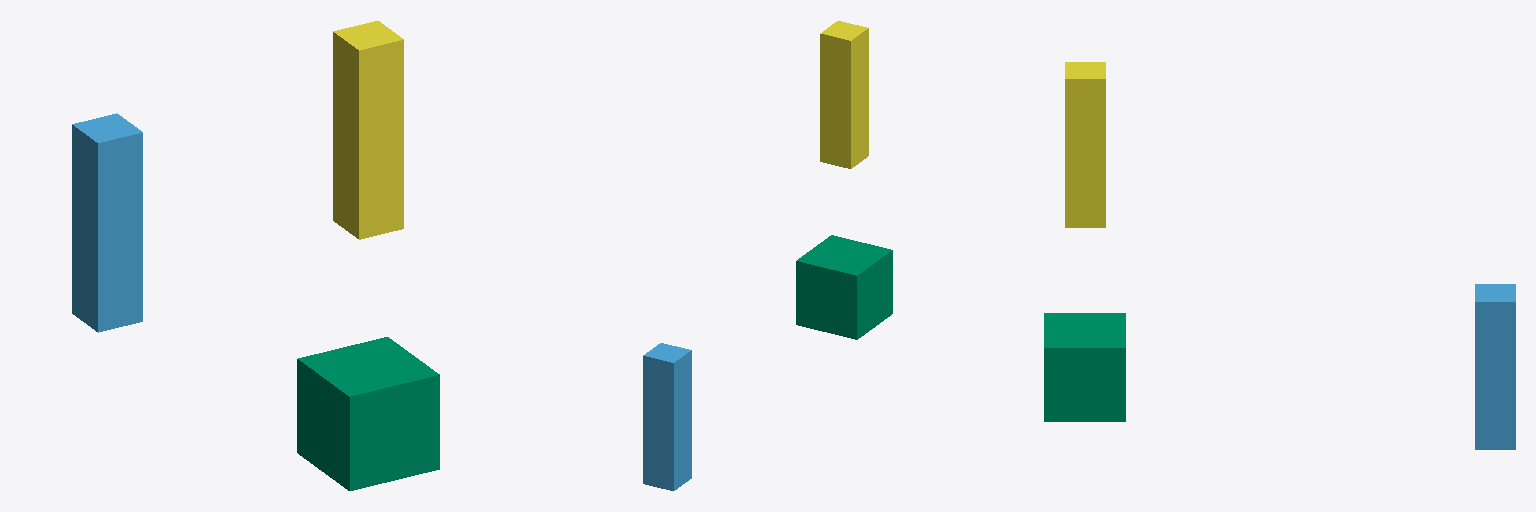
URDF robot description (world_revolute_and_floating):
<?xml version="1.0"?>
<robot name="world_revolute_and_floating">
  <link name="world"/>
  <link name="arm">
    <inertial>
      <mass value="1"/>
      <inertia ixx="0.01" iyy="0.01" izz="0.01" ixy="0" ixz="0" iyz="0"/>
    </inertial>
    <visual>
      <geometry>
        <box size="0.05 0.05 0.2"/>
      </geometry>
    </visual>
  </link>
  <link name="free">
    <inertial>
      <mass value="1"/>
      <inertia ixx="0.01" iyy="0.01" izz="0.01" ixy="0" ixz="0" iyz="0"/>
    </inertial>
    <visual>
      <geometry>
        <box size="0.1 0.1 0.1"/>
      </geometry>
    </visual>
  </link>
  <link name="freechild">
    <inertial>
      <mass value="1"/>
      <inertia ixx="0.01" iyy="0.01" izz="0.01" ixy="0" ixz="0" iyz="0"/>
    </inertial>
    <visual>
      <geometry>
        <box size="0.05 0.05 0.2"/>
      </geometry>
    </visual>
  </link>

  <joint name="arm_joint" type="revolute">
    <origin xyz="0 0.25 0"/>
    <parent link="world"/>
    <child link="arm"/>
    <axis xyz="0 0 1"/>
    <limit lower="-1" upper="1" effort="1" velocity="1"/>
  </joint>
  <joint name="free_joint" type="floating">
    <origin xyz="0 -0.25 0"/>
    <parent link="world"/>
    <child link="free"/>
  </joint>
  <joint name="freechild_joint" type="revolute">
    <origin xyz="0 0 0.3"/>
    <parent link="free"/>
    <child link="freechild"/>
    <axis xyz="0 0 1"/>
    <limit lower="-1" upper="1" effort="1" velocity="1"/>
  </joint>
</robot>

--- Facts derived from the render (not from the file) ---
Views: 3 orthographic renders of the robot side by side, from view 1: azimuth 30°, elevation 25°; view 2: azimuth 150°, elevation 25°; view 3: azimuth 270°, elevation 25°.
Model world_revolute_and_floating with 4 links and 3 joints (2 revolute, 1 floating), rooted at world, posed all joints at 0.
Links seen in each view (by area): view 1: free, arm, freechild; view 2: free, arm, freechild; view 3: free, arm, freechild.
Boxes of the visible links, box(x1,y1,x2,y2) form: free: box(297, 337, 439, 490); arm: box(72, 113, 142, 332); freechild: box(333, 21, 403, 239); free: box(796, 235, 892, 339); arm: box(643, 343, 691, 490); freechild: box(820, 21, 868, 168); free: box(1044, 313, 1125, 421); arm: box(1475, 284, 1515, 449); freechild: box(1065, 62, 1105, 227).
Bounding box of the posed robot: 0.1 × 0.575 × 0.5 m (x, y, z).
Geometry: primitives only (box / cylinder / sphere), no mesh files.
